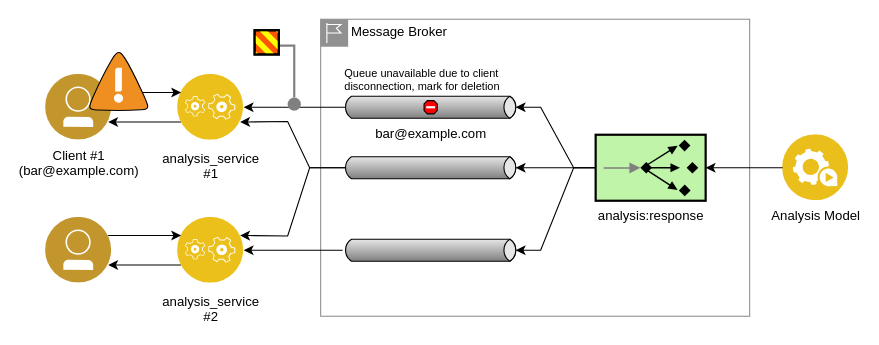
Some shapes in this 879 by 345 pixel diagram are drawn without their labels. Here are the shapes that lost their labels. From the top down, the centre of each, then its label:
(266,42): Client Disconnected
(430,167): global (Dead Letter)
(78,250): Client #2 (foo@example.com)
(430,249): foo@example.com
